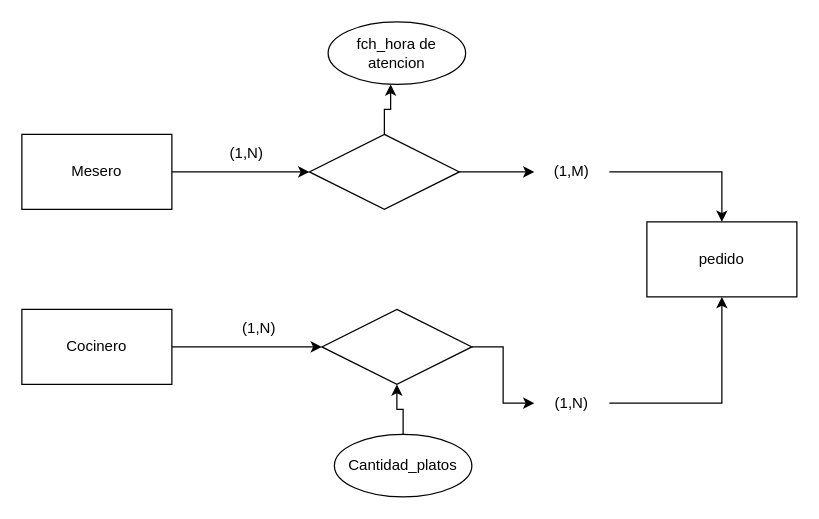
Some shapes in this 819 by 519 pixel diagram are drawn without their labels. Each missing label, with the centre of its shape:
Atencion: point (383, 171)
Prepara: point (396, 346)
